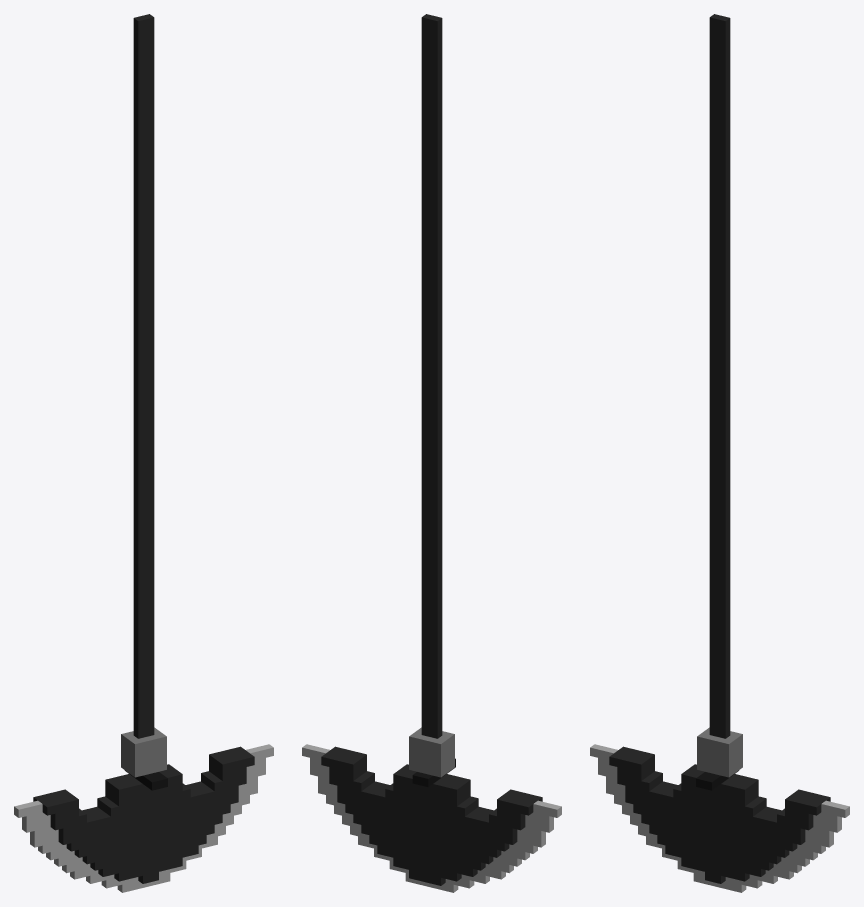
File: doki.obj
3 views of the same model, side by side, from view 1: azimuth 30°, elevation 25°; view 2: azimuth 150°, elevation 25°; view 3: azimuth 330°, elevation 25° (orthographic).
Parts seen in each view (by area): view 1: doki; view 2: doki; view 3: doki.
Boxes of the visible parts, x1=… form: doki: x1=14, y1=14, x2=273, y2=892; doki: x1=302, y1=14, x2=561, y2=892; doki: x1=590, y1=14, x2=849, y2=892.
Size of the model in its own units: 32 by 104 by 6.
1 material, 1 textured.
